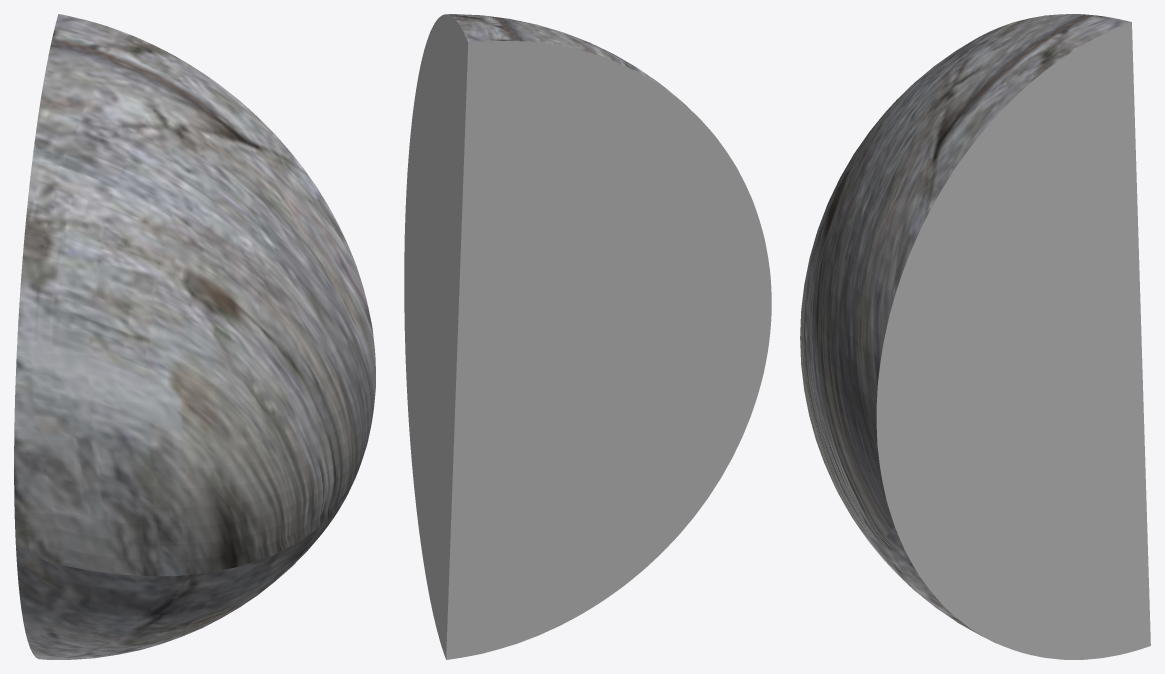
File: sliced_ball1.obj
3 renders of one model, left to right at view 1: azimuth 30°, elevation 25°; view 2: azimuth 150°, elevation 25°; view 3: azimuth 270°, elevation 25°, orthographic.
Visible parts, largest first — view 1: Object.1; view 2: Object.1; view 3: Object.1.
Boxes of the visible parts, x1,y1,x2,y2 form: Object.1: (14,14,375,659); Object.1: (404,14,771,659); Object.1: (800,14,1150,659).
Bounding box in the file's own units: 0.6194 × 0.9992 × 0.5139.
